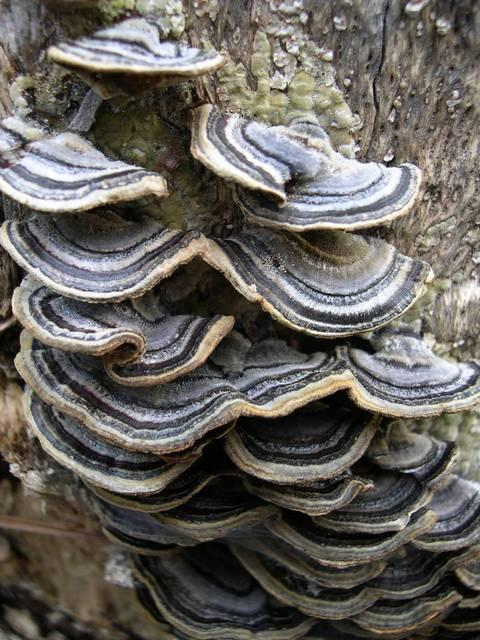Non-edible Mushroom: (0, 14, 479, 637), (186, 101, 422, 232), (45, 14, 226, 100), (0, 128, 169, 214)
